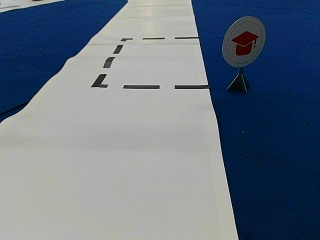school: (221, 16, 265, 67)
